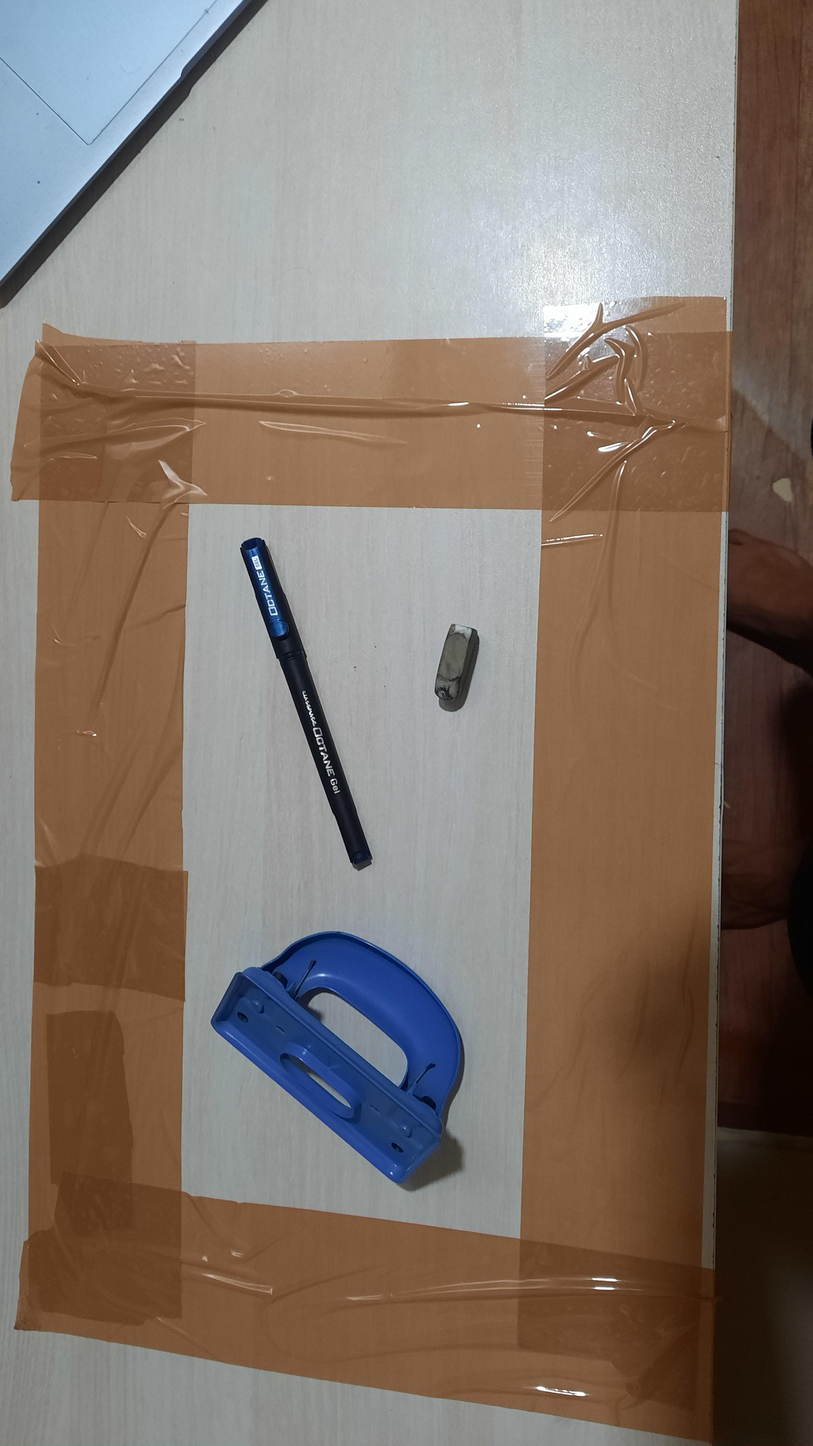Eraser: (435, 624, 480, 702)
Pen: (241, 537, 373, 870)
Punch: (210, 931, 464, 1183)
